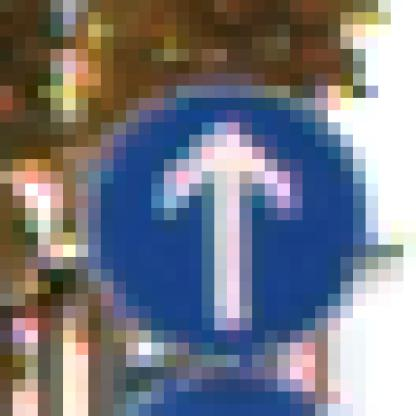AheadOnly: (77, 75, 354, 344)
